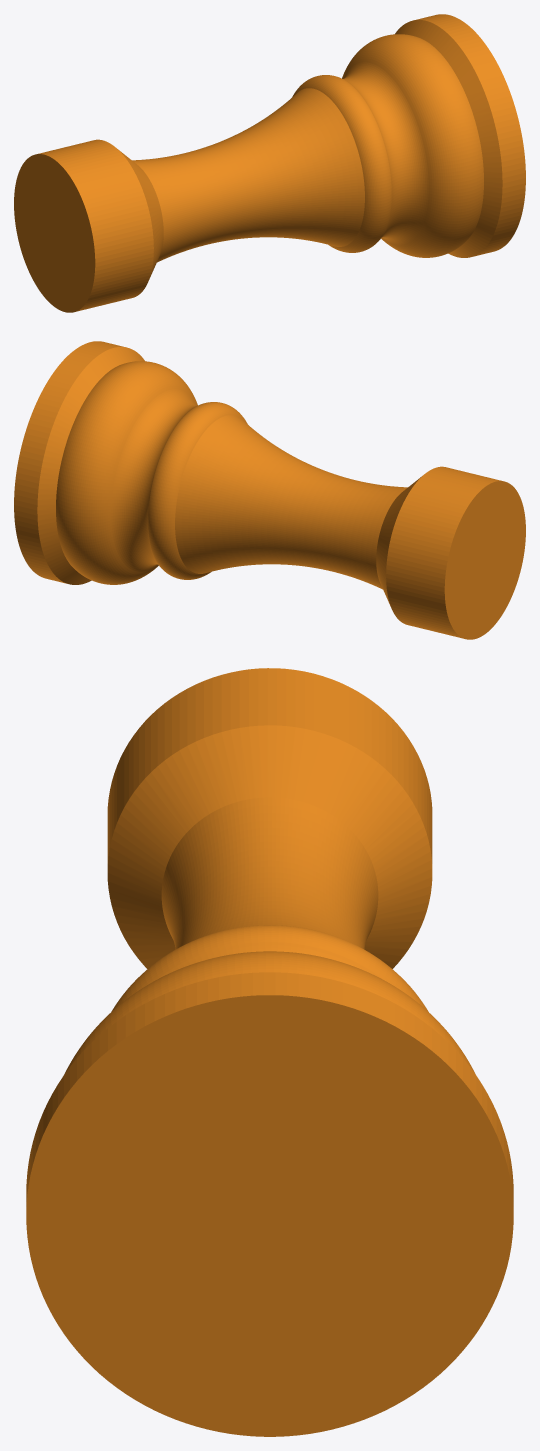
Rendered from latheRook.glb.
3 views of the same model, one above another, from view 1: azimuth 30°, elevation 25°; view 2: azimuth 150°, elevation 25°; view 3: azimuth 270°, elevation 25° (orthographic). The views are drawn at different scales.
Parts seen in each view (by area): view 1: S1_ROOK.stl; view 2: S1_ROOK.stl; view 3: S1_ROOK.stl.
Boxes of the visible parts, x1,y1,x2,y2 form: S1_ROOK.stl: (14, 14, 525, 312); S1_ROOK.stl: (14, 341, 525, 639); S1_ROOK.stl: (26, 668, 513, 1436).
Bounding box in the file's own units: 70 × 35.99 × 36.
